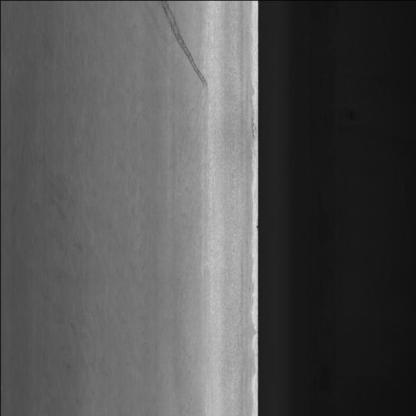water_spot: (155, 0, 214, 104)
